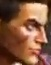kevin: (4, 0, 49, 64)
